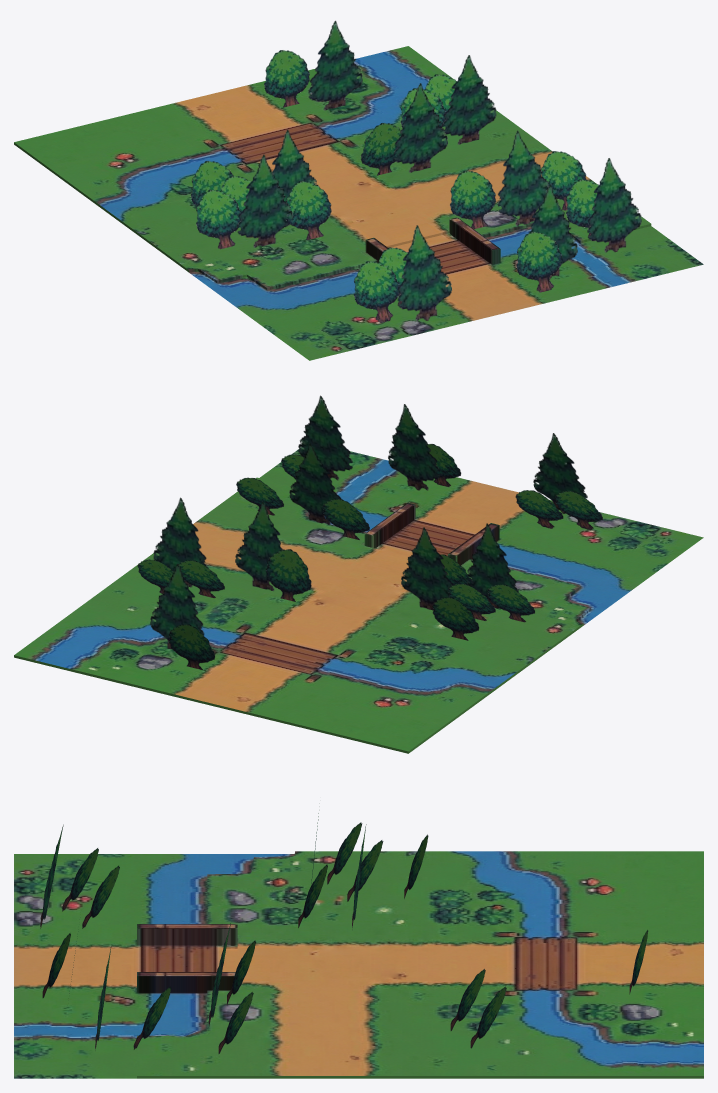
Rendered from forest.glb.
3 renders of one model, top to bottom at view 1: azimuth 30°, elevation 25°; view 2: azimuth 150°, elevation 25°; view 3: azimuth 270°, elevation 25°, orthographic. The views are drawn at different scales.
Parts seen in each view (by area): view 1: green, tree01.001, tree01.008, tree01.006, tree01.003, tree01.004, tree01.005, tree01.007, tree02.003, tree02.004, tree02.005, tree02.009 (+12 smaller); view 2: green, tree01.002, tree01, tree01.008, tree01.004, tree01.003, tree01.005, tree01.007, tree01.006, tree01.001, tree02.006, tree02.007 (+10 smaller); view 3: green, tree02.002, tree02.012, tree02.010, tree02.003, tree02.013, tree02.011, tree02.009, tree02.008, tree02.001, tree02.005, tree02.004 (+2 smaller).
Boxes of the visible parts, x1,y1,x2,y2 form: green: (14, 46, 703, 360); tree01.001: (397, 225, 451, 321); tree01.008: (587, 158, 641, 252); tree01.006: (237, 154, 292, 247); tree01.003: (497, 130, 550, 226); tree01.004: (393, 83, 447, 172); tree01.005: (308, 20, 362, 110); tree01.007: (442, 55, 496, 144); tree02.003: (354, 261, 399, 322); tree02.004: (516, 231, 562, 292); tree02.005: (450, 170, 495, 229); tree02.009: (196, 189, 241, 249); green: (14, 447, 703, 753); tree01.002: (388, 404, 440, 490); tree01: (401, 527, 453, 610); tree01.008: (298, 395, 352, 480); tree01.004: (235, 501, 282, 591); tree01.003: (289, 443, 341, 525); tree01.005: (150, 563, 204, 649); tree01.007: (153, 497, 207, 587); tree01.006: (466, 523, 518, 610); tree01.001: (533, 433, 587, 513); tree02.006: (265, 549, 311, 601); tree02.007: (168, 624, 215, 669); green: (14, 851, 703, 1078); tree02.002: (82, 865, 119, 928); tree02.012: (133, 986, 171, 1049); tree02.010: (470, 986, 506, 1048); tree02.003: (62, 848, 98, 911); tree02.013: (218, 992, 253, 1053); tree02.011: (450, 969, 485, 1030); tree02.009: (327, 822, 362, 884); tree02.008: (347, 840, 383, 901); tree02.001: (298, 864, 327, 927); tree02.005: (227, 940, 255, 1004); tree02.004: (42, 933, 70, 997).
Size of the model in its own units: 0.7708 by 0.1801 by 1.
Materials: 3 (3 with a texture image).
